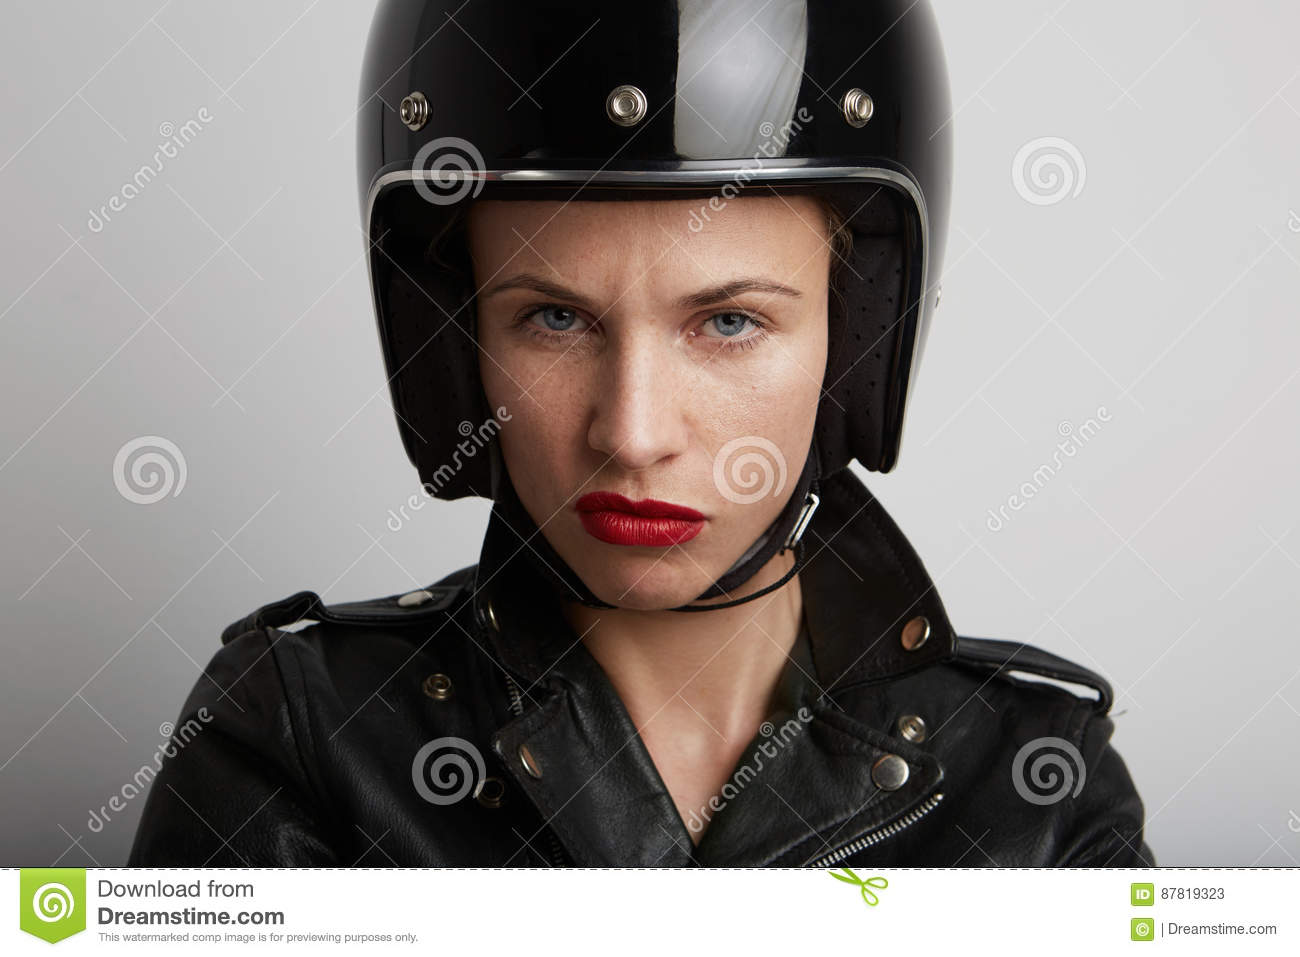helmet: (355, 14, 940, 486)
